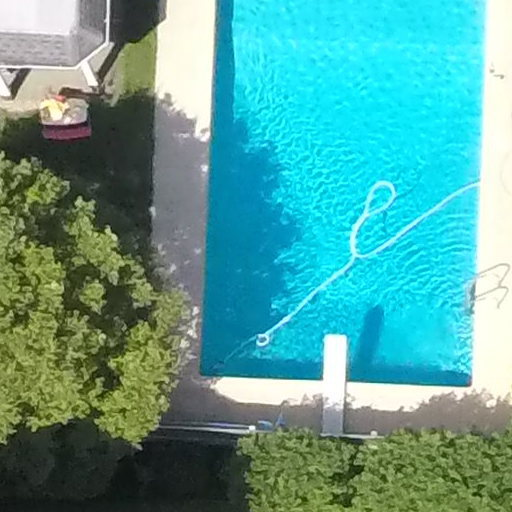pool: (150, 1, 506, 417)
table: (30, 91, 97, 141)
